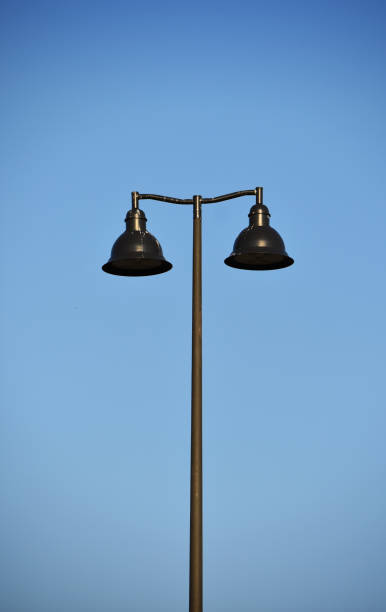light_pole: (187, 198, 206, 610)
